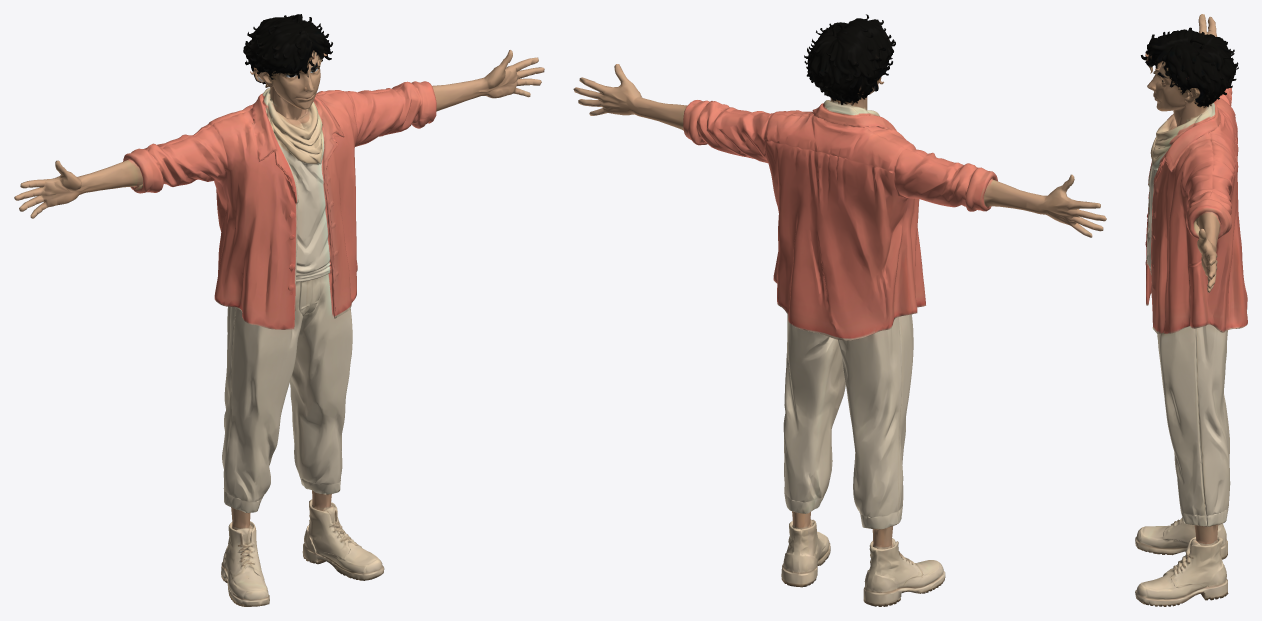
Rendered from source.glb.
The picture shows the model from 3 angles, left to right: view 1: azimuth 30°, elevation 25°; view 2: azimuth 150°, elevation 25°; view 3: azimuth 270°, elevation 25°; orthographic projection. The views are drawn at different scales.
Visible parts, largest first — view 1: tripo_node_d0bc2bc6-37f1-44a6-9530-062c8f43d2e2; view 2: tripo_node_d0bc2bc6-37f1-44a6-9530-062c8f43d2e2; view 3: tripo_node_d0bc2bc6-37f1-44a6-9530-062c8f43d2e2.
Part boxes in pixels (box(x1,y1,x2,y2)): tripo_node_d0bc2bc6-37f1-44a6-9530-062c8f43d2e2: box(14, 14, 544, 606); tripo_node_d0bc2bc6-37f1-44a6-9530-062c8f43d2e2: box(573, 14, 1106, 606); tripo_node_d0bc2bc6-37f1-44a6-9530-062c8f43d2e2: box(1135, 14, 1247, 606).
Size of the model in its own units: 0.9717 by 0.9753 by 0.1844.
1 material, 1 textured.
